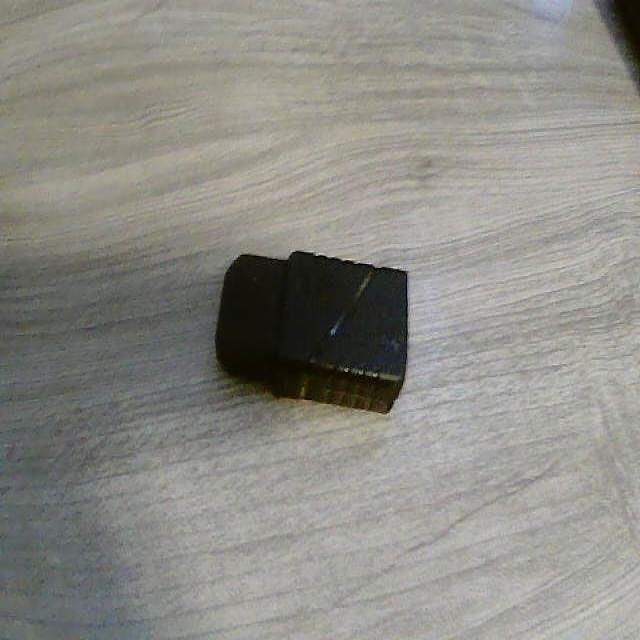borracha: (200, 212, 429, 422)
